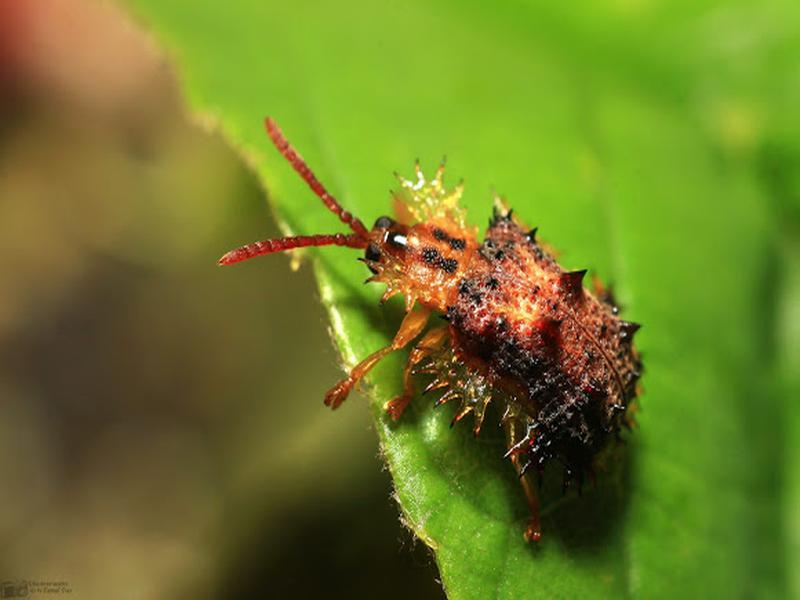Spiny_beetle: (264, 143, 684, 544)
